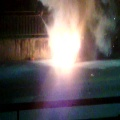fire: (48, 25, 80, 74)
